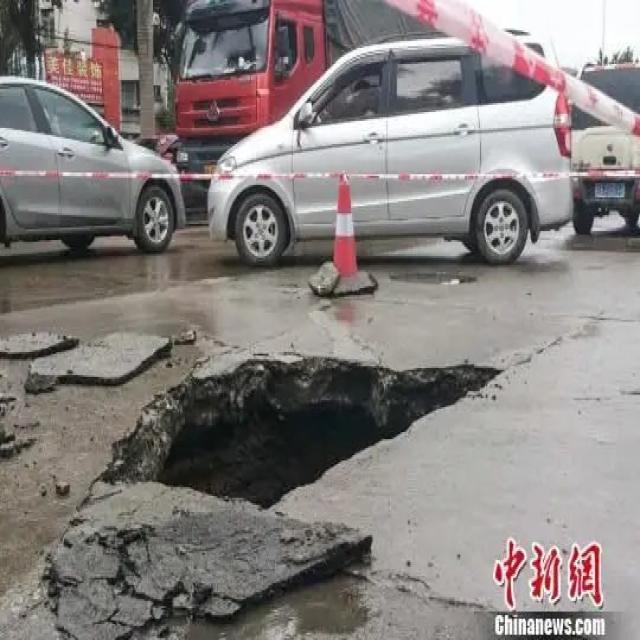Pothole: (103, 351, 510, 508)
